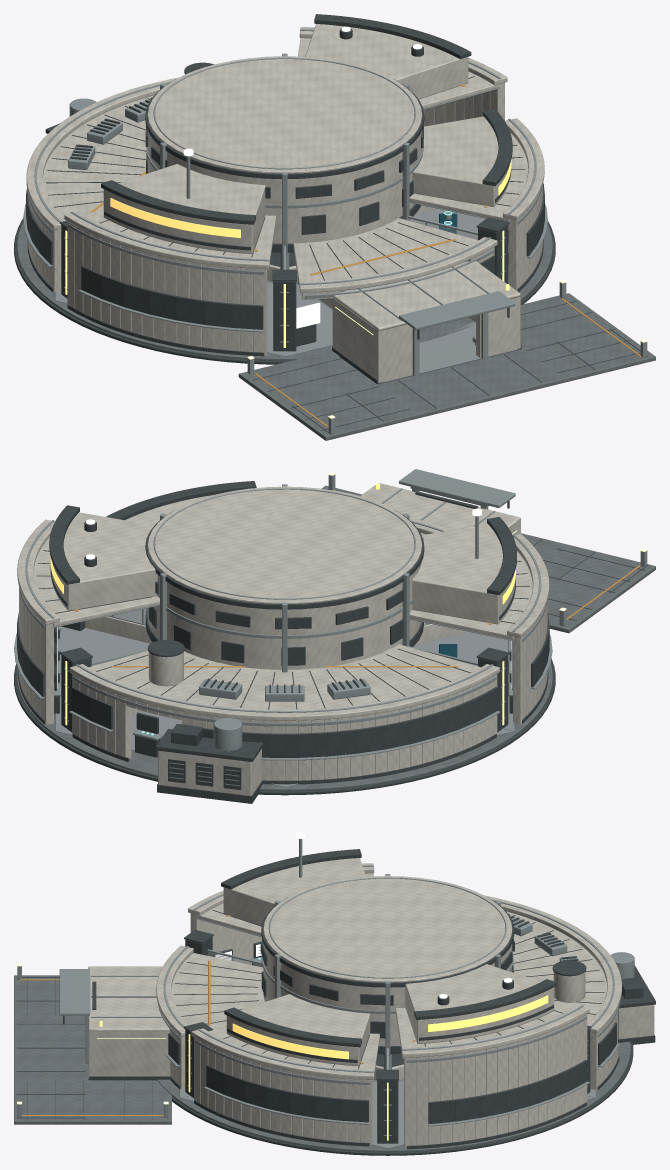
Rendered from hq-shell.glb.
3 renders of one model, top to bottom at view 1: azimuth 30°, elevation 25°; view 2: azimuth 150°, elevation 25°; view 3: azimuth 270°, elevation 25°, orthographic. The views are drawn at different scales.
Visible parts, largest first — view 1: MF_Roof__structure_ivory_ceramic, MF_BaseFixed__structure_ivory_ceramic, MF_Court__court_weathered_basalt, MF_Roof__structure_graphite_joints, MF_BaseFixed__structure_graphite_joints, MF_ShellCutaway_FrontFlats__structure_ivory_ceramic, MF_Roof__brushed_titanium, MF_BaseFixed__court_weathered_basalt, MF_BaseFixed__brushed_titanium, MF_ShellCutaway_FrontFlats__brushed_titanium, MF_Interior_dispatch__room_inlay_dispatch, MF_Court__structure_graphite_joints (+4 smaller); view 2: MF_Roof__structure_ivory_ceramic, MF_BaseFixed__structure_ivory_ceramic, MF_BaseFixed__structure_graphite_joints, MF_Roof__structure_graphite_joints, MF_Roof__brushed_titanium, MF_Court__court_weathered_basalt, MF_BaseFixed__brushed_titanium, MF_BaseFixed__court_weathered_basalt, MF_Interior_review__room_inlay_review, MF_Interior_planning__room_inlay_planning, MF_Interior_implementation__structure_graphite_joints, MF_Interior_implementation__room_inlay_implementation (+3 smaller); view 3: MF_Roof__structure_ivory_ceramic, MF_BaseFixed__structure_ivory_ceramic, MF_ShellCutaway_FrontFlats__structure_ivory_ceramic, MF_Court__court_weathered_basalt, MF_BaseFixed__structure_graphite_joints, MF_Roof__structure_graphite_joints, MF_Roof__brushed_titanium, MF_ShellCutaway_FrontFlats__structure_graphite_joints, MF_BaseFixed__court_weathered_basalt, MF_BaseFixed__brushed_titanium, MF_ShellCutaway_FrontFlats__brushed_titanium, MF_Roof__practical_warm_window_glass (+1 smaller).
Boxes of the visible parts, x1,y1,x2,y2 form: MF_Roof__structure_ivory_ceramic: [43, 24, 528, 330]; MF_BaseFixed__structure_ivory_ceramic: [26, 27, 507, 382]; MF_Court__court_weathered_basalt: [238, 293, 655, 440]; MF_Roof__structure_graphite_joints: [46, 14, 525, 339]; MF_BaseFixed__structure_graphite_joints: [14, 123, 555, 384]; MF_ShellCutaway_FrontFlats__structure_ivory_ceramic: [299, 118, 544, 381]; MF_Roof__brushed_titanium: [60, 53, 515, 330]; MF_BaseFixed__court_weathered_basalt: [17, 221, 552, 360]; MF_BaseFixed__brushed_titanium: [23, 29, 505, 342]; MF_ShellCutaway_FrontFlats__brushed_titanium: [299, 118, 547, 375]; MF_Interior_dispatch__room_inlay_dispatch: [382, 321, 516, 382]; MF_Court__structure_graphite_joints: [252, 301, 648, 434]; MF_Roof__structure_ivory_ceramic: [33, 483, 532, 709]; MF_BaseFixed__structure_ivory_ceramic: [17, 519, 549, 795]; MF_BaseFixed__structure_graphite_joints: [14, 613, 555, 803]; MF_Roof__structure_graphite_joints: [37, 481, 529, 745]; MF_Roof__brushed_titanium: [52, 469, 515, 751]; MF_Court__court_weathered_basalt: [321, 485, 655, 633]; MF_BaseFixed__brushed_titanium: [14, 520, 552, 786]; MF_BaseFixed__court_weathered_basalt: [17, 663, 552, 790]; MF_Interior_review__room_inlay_review: [56, 626, 149, 730]; MF_Interior_planning__room_inlay_planning: [413, 631, 513, 730]; MF_Interior_implementation__structure_graphite_joints: [135, 712, 160, 757]; MF_Interior_implementation__room_inlay_implementation: [58, 711, 510, 787]; MF_Roof__structure_ivory_ceramic: [88, 858, 606, 1070]; MF_BaseFixed__structure_ivory_ceramic: [188, 863, 654, 1148]; MF_ShellCutaway_FrontFlats__structure_ivory_ceramic: [88, 945, 374, 1146]; MF_Court__court_weathered_basalt: [14, 975, 171, 1124]; MF_BaseFixed__structure_graphite_joints: [88, 930, 655, 1155]; MF_Roof__structure_graphite_joints: [63, 849, 643, 1069]; MF_Roof__brushed_titanium: [59, 839, 634, 1081]; MF_ShellCutaway_FrontFlats__structure_graphite_joints: [89, 981, 369, 1146]; MF_BaseFixed__court_weathered_basalt: [157, 1041, 630, 1151]; MF_BaseFixed__brushed_titanium: [187, 865, 620, 1135]; MF_ShellCutaway_FrontFlats__brushed_titanium: [85, 946, 374, 1124]; MF_Roof__practical_warm_window_glass: [232, 995, 548, 1059].
Size of the model in its own units: 35.5 by 12.31 by 46.37.
Materials: 20 (3 with a texture image).
